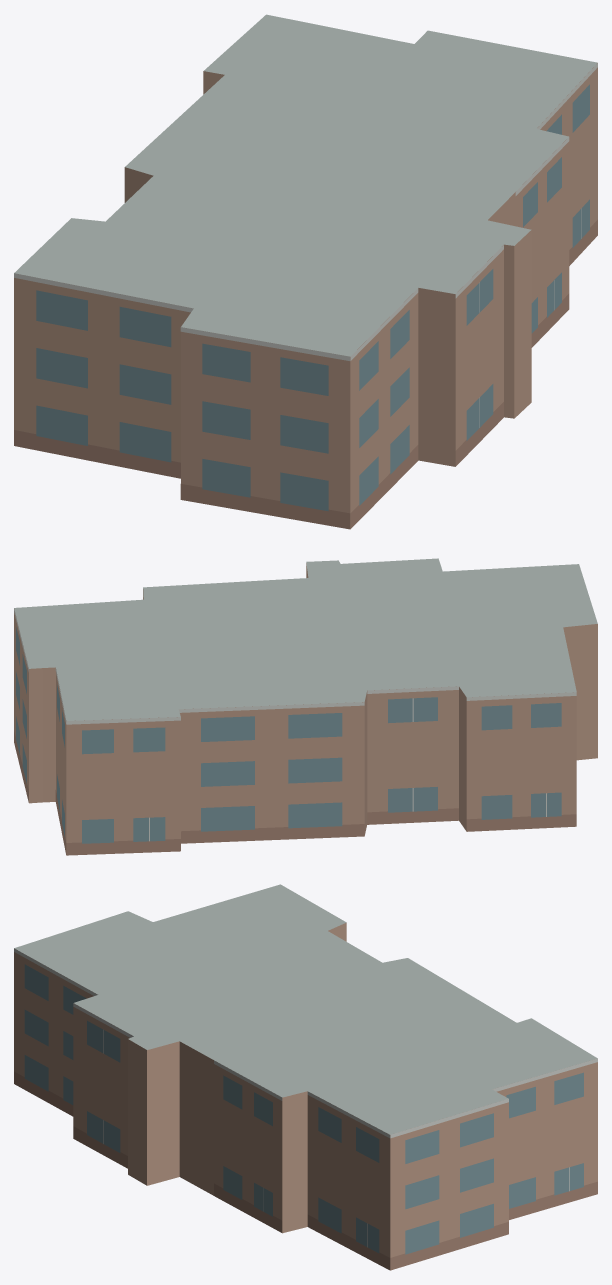
The model's file is survey-upis-33043770.glb.
3 renders of one model, top to bottom at view 1: azimuth 30°, elevation 25°; view 2: azimuth 150°, elevation 25°; view 3: azimuth 270°, elevation 25°, orthographic. The views are drawn at different scales.
Parts seen in each view (by area): view 1: survey-upis-33043770.tmp; view 2: survey-upis-33043770.tmp; view 3: survey-upis-33043770.tmp.
Boxes of the visible parts, box(x1,y1,x2,y2) form: survey-upis-33043770.tmp: box(14, 14, 597, 529); survey-upis-33043770.tmp: box(14, 558, 597, 855); survey-upis-33043770.tmp: box(14, 884, 597, 1270).
Bounding box in the file's own units: 36.23 × 9.15 × 35.68.
